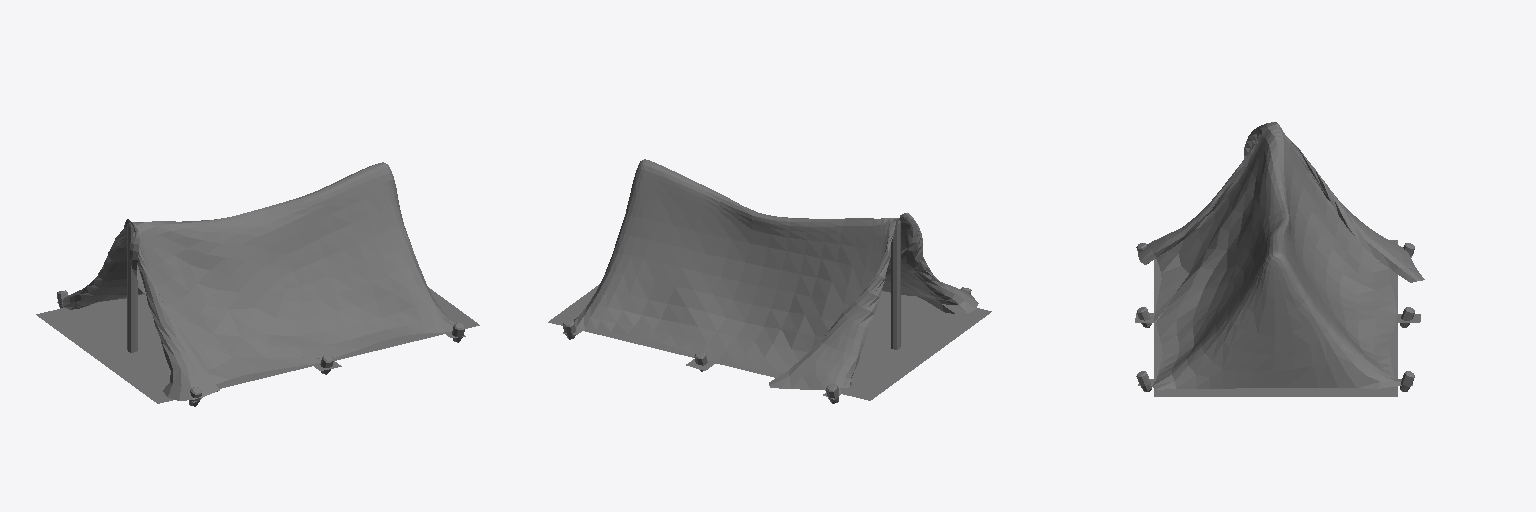
Rendered from Basiccampingtents.obj.
The picture shows the model from 3 angles: view 1: azimuth 30°, elevation 25°; view 2: azimuth 150°, elevation 25°; view 3: azimuth 270°, elevation 25°; orthographic projection.
Parts seen in each view (by area): view 1: BasicCampingtente; view 2: BasicCampingtente; view 3: BasicCampingtente.
Part boxes in pixels (x1,y1,x2,y2): BasicCampingtente: (36, 162, 479, 406); BasicCampingtente: (548, 159, 991, 403); BasicCampingtente: (1135, 122, 1424, 396).
Bounding box in the file's own units: 280 × 117 × 218.